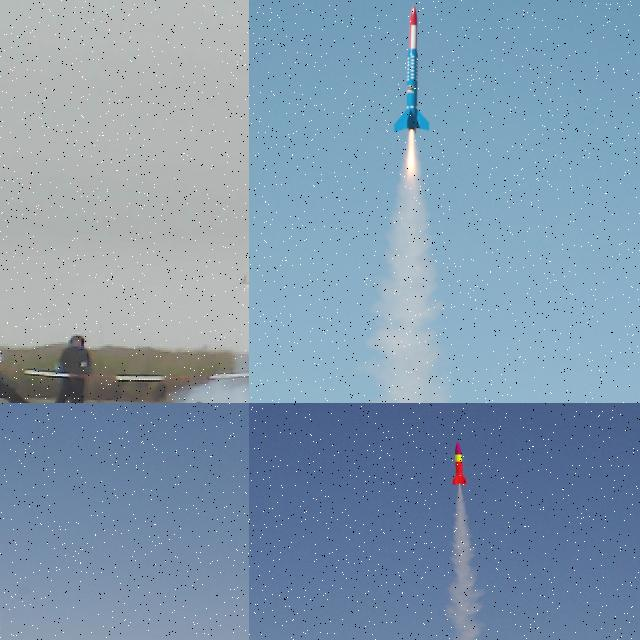Rocket: (393, 5, 431, 134), (452, 441, 467, 486), (240, 219, 249, 285)
